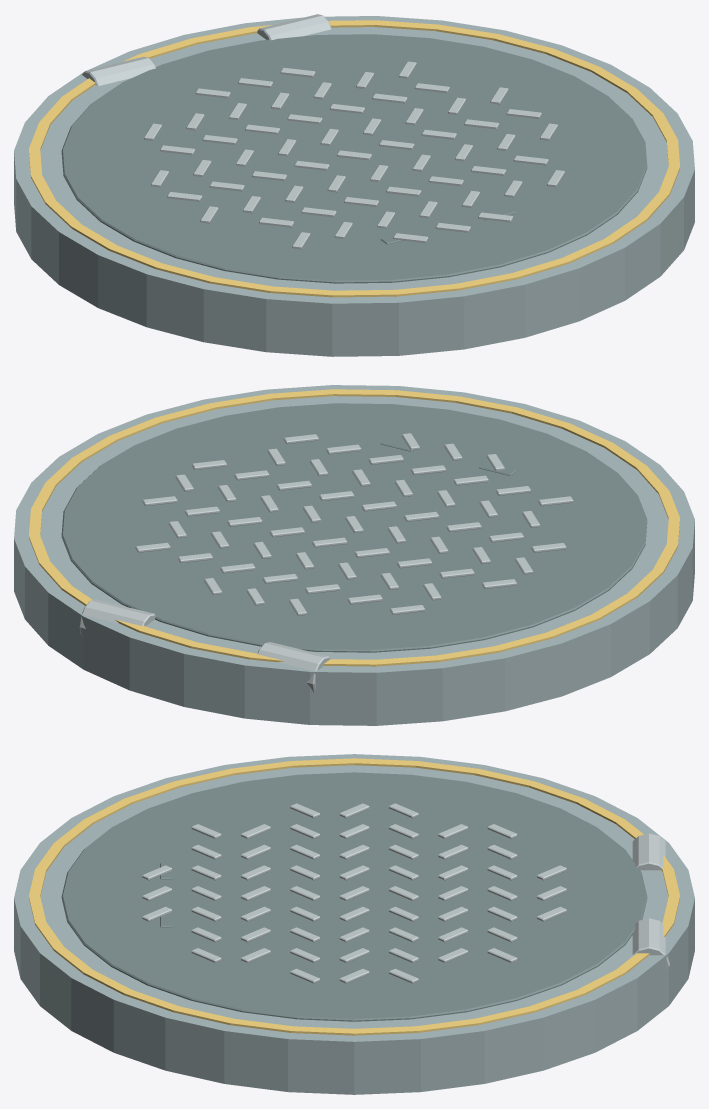
The model's file is Structure-Manhole.fbx.
The picture shows the model from 3 angles, top to bottom: view 1: azimuth 30°, elevation 25°; view 2: azimuth 150°, elevation 25°; view 3: azimuth 270°, elevation 25°; orthographic projection.
Parts seen in each view (by area): view 1: Cover, Flush Frame, Cast Tread Mesh, Rim Inlay, Hinge Pin, Hinge Pin.001; view 2: Cover, Flush Frame, Cast Tread Mesh, Rim Inlay, Hinge Pin, Hinge Pin.001; view 3: Cover, Flush Frame, Cast Tread Mesh, Rim Inlay, Hinge Pin.001, Hinge Pin.
Boxes of the visible parts, box(x1,y1,x2,y2) form: Cover: box(61, 34, 647, 283); Flush Frame: box(14, 16, 694, 356); Cast Tread Mesh: box(144, 61, 564, 249); Rim Inlay: box(29, 20, 679, 297); Hinge Pin: box(82, 56, 155, 85); Hinge Pin.001: box(257, 14, 331, 40); Cover: box(61, 403, 647, 652); Flush Frame: box(14, 385, 694, 725); Cast Tread Mesh: box(135, 433, 573, 615); Rim Inlay: box(29, 389, 679, 666); Hinge Pin: box(257, 642, 330, 692); Hinge Pin.001: box(79, 599, 155, 635); Cover: box(61, 772, 647, 1021); Flush Frame: box(14, 754, 694, 1094); Cast Tread Mesh: box(142, 803, 566, 983); Rim Inlay: box(29, 758, 679, 1035); Hinge Pin.001: box(632, 918, 669, 974); Hinge Pin: box(632, 833, 665, 870).
Bounding box in the file's own units: 1.56 × 0.154 × 1.56.
